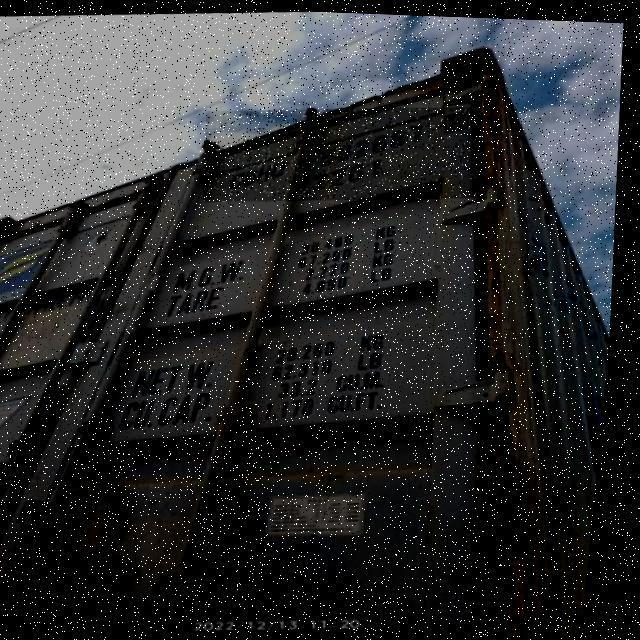container_number_h: (201, 95, 486, 208)
